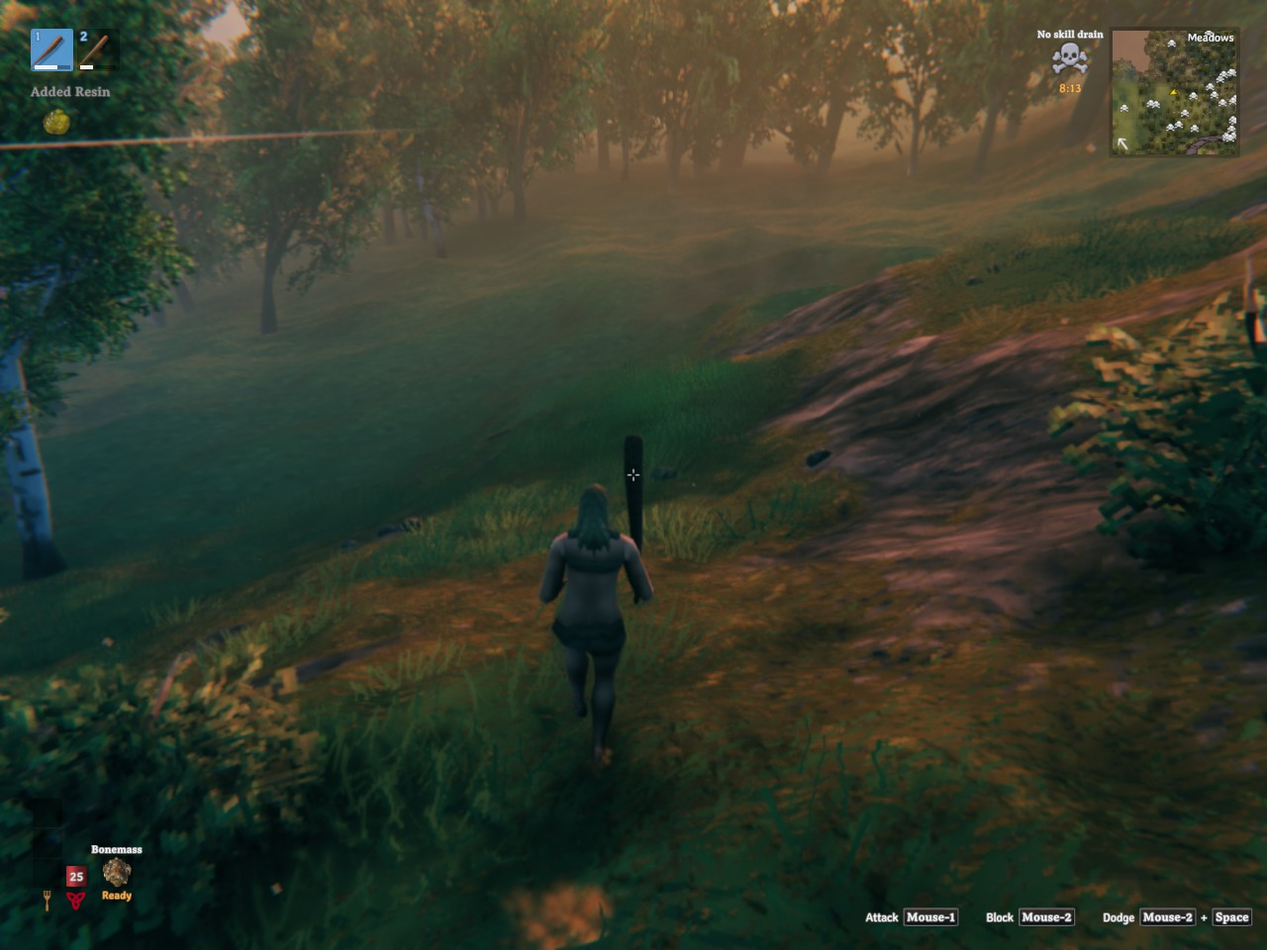Stone: (807, 449, 830, 466), (377, 524, 401, 536), (650, 468, 676, 479), (341, 538, 358, 550), (966, 275, 982, 286), (989, 264, 1000, 271)
